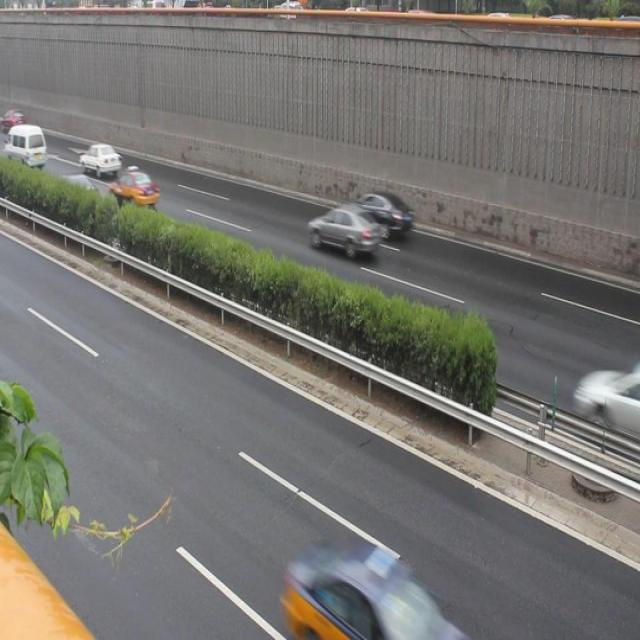car: (277, 543, 454, 640), (310, 203, 380, 265), (346, 185, 413, 238), (111, 164, 161, 212), (58, 170, 102, 214), (79, 140, 122, 179)
truck: (8, 121, 48, 169)
